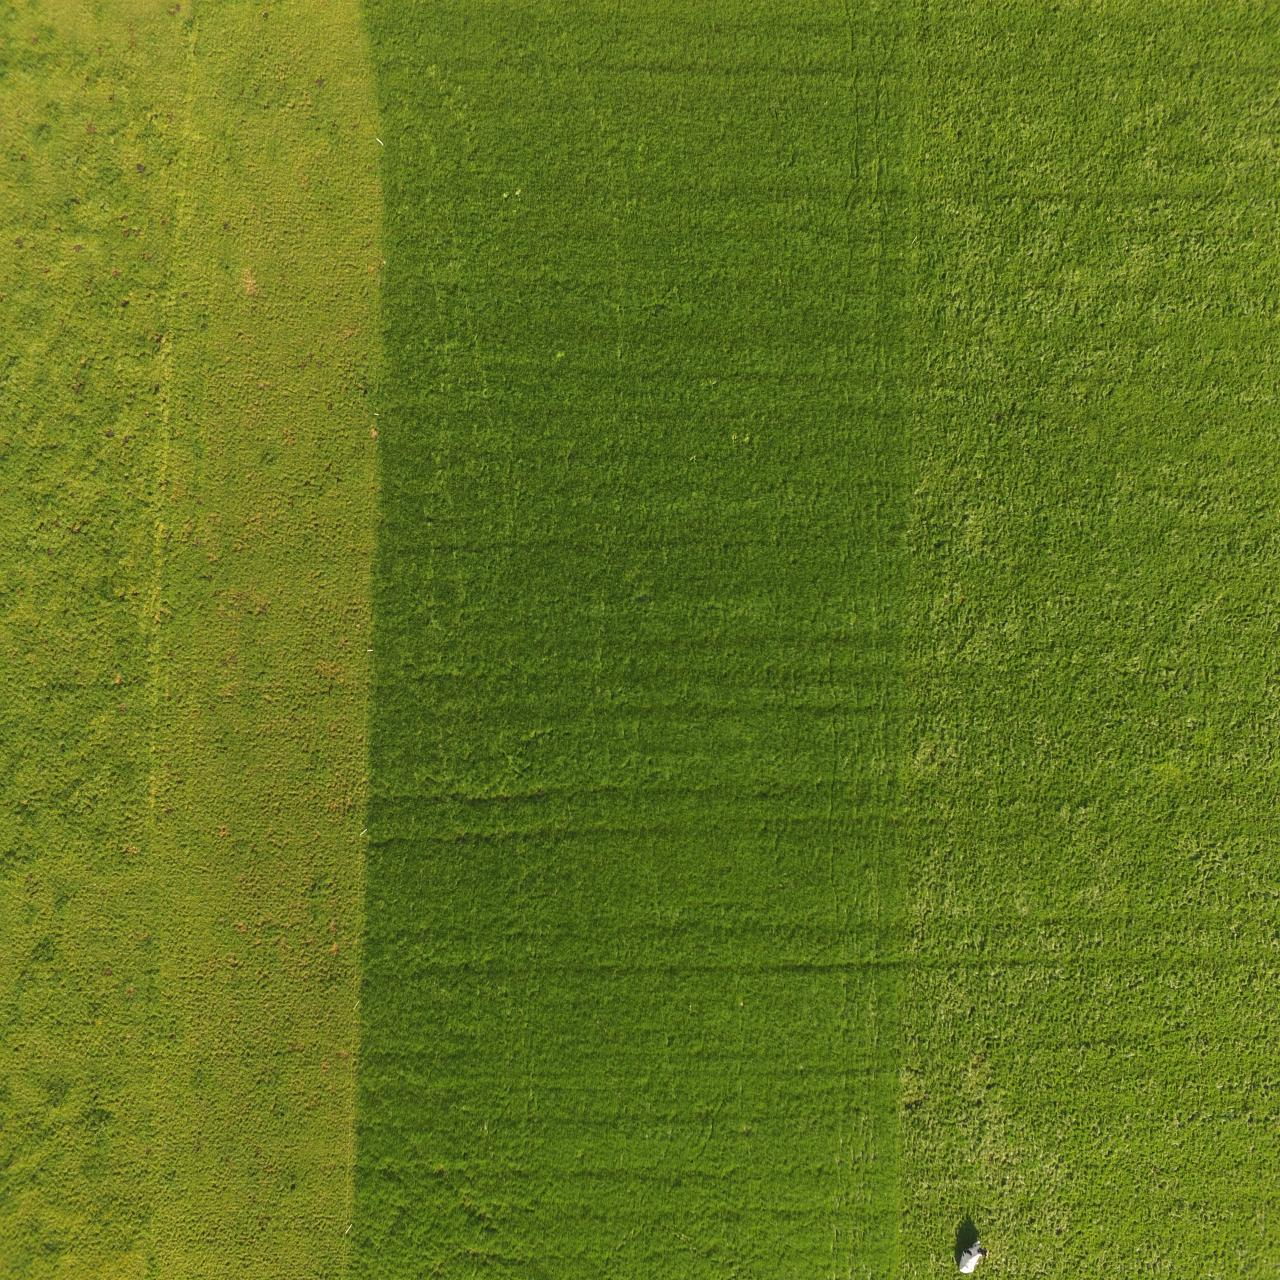cow: (954, 1237, 989, 1275)
